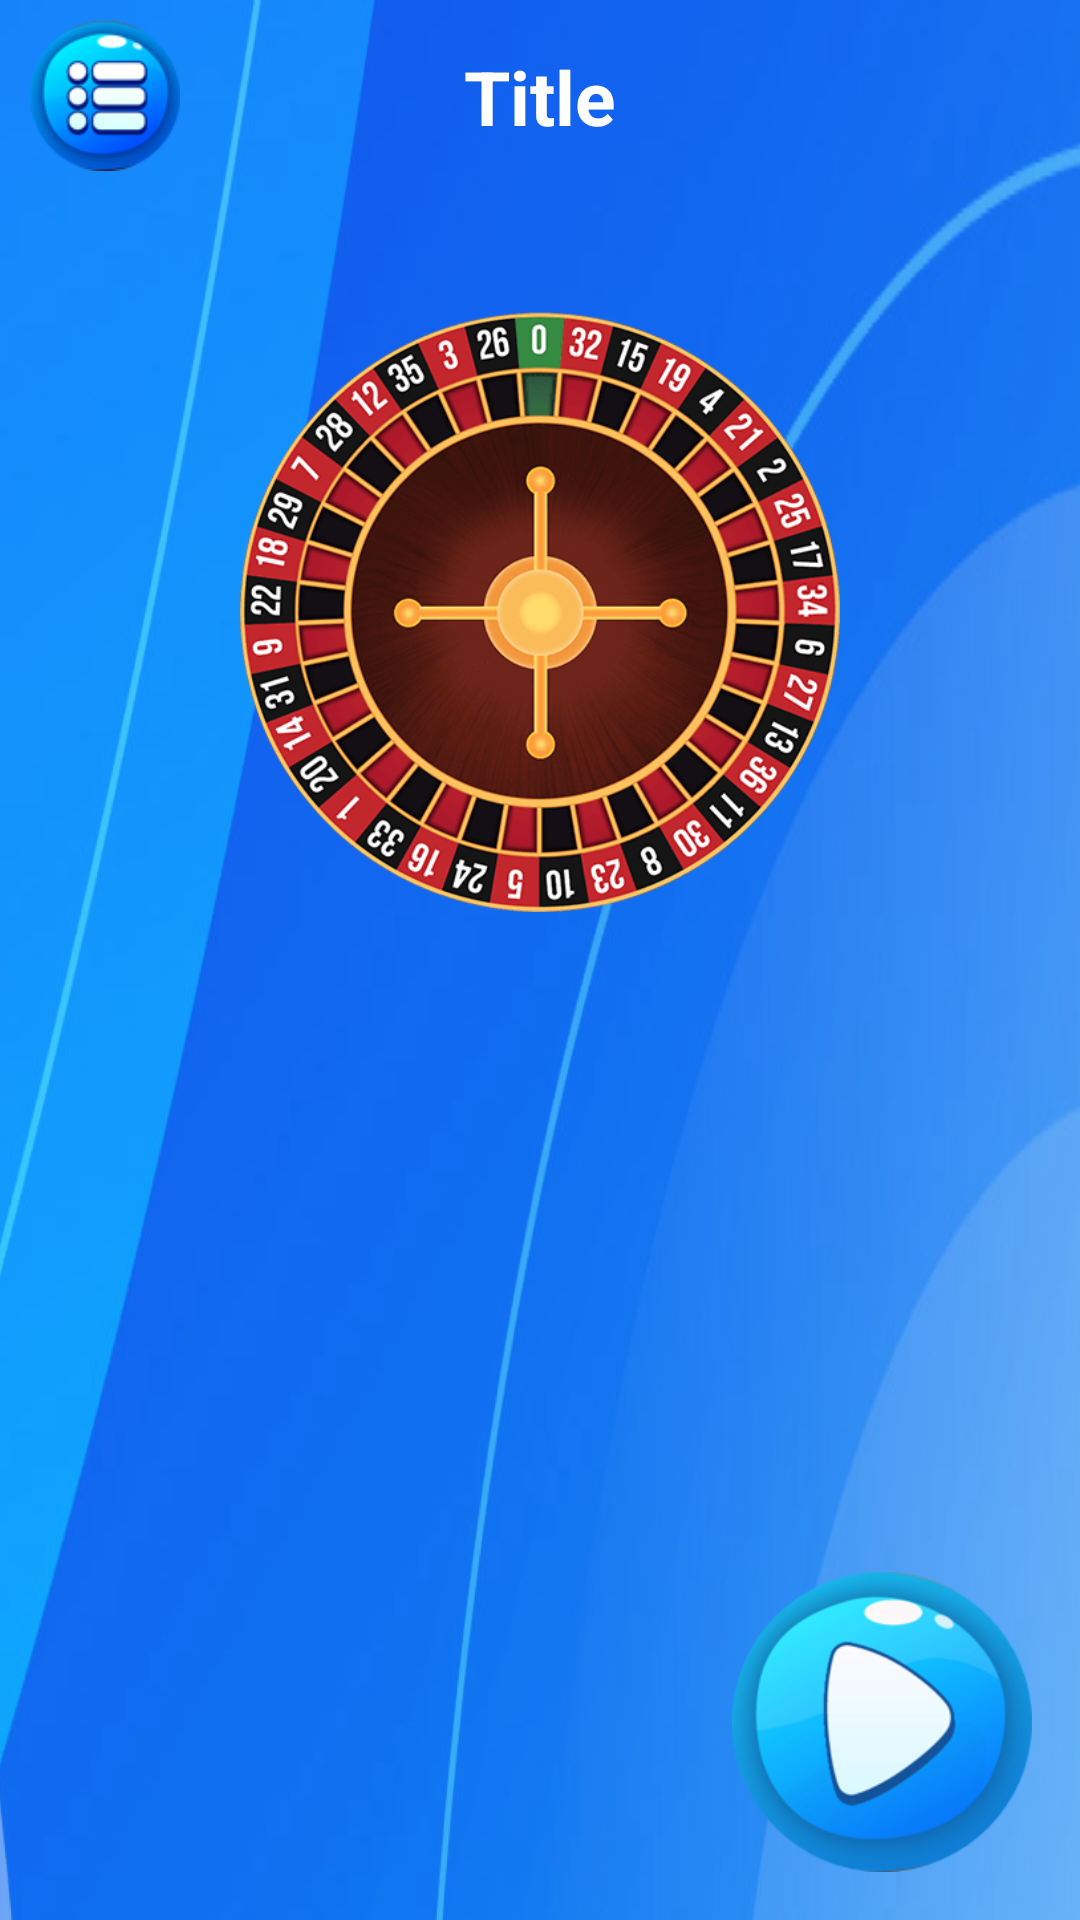

Screen size 1080 × 1920. Icon name, then its center in pixels as (x,y):
menu: (106,96)
play: (882,1722)
